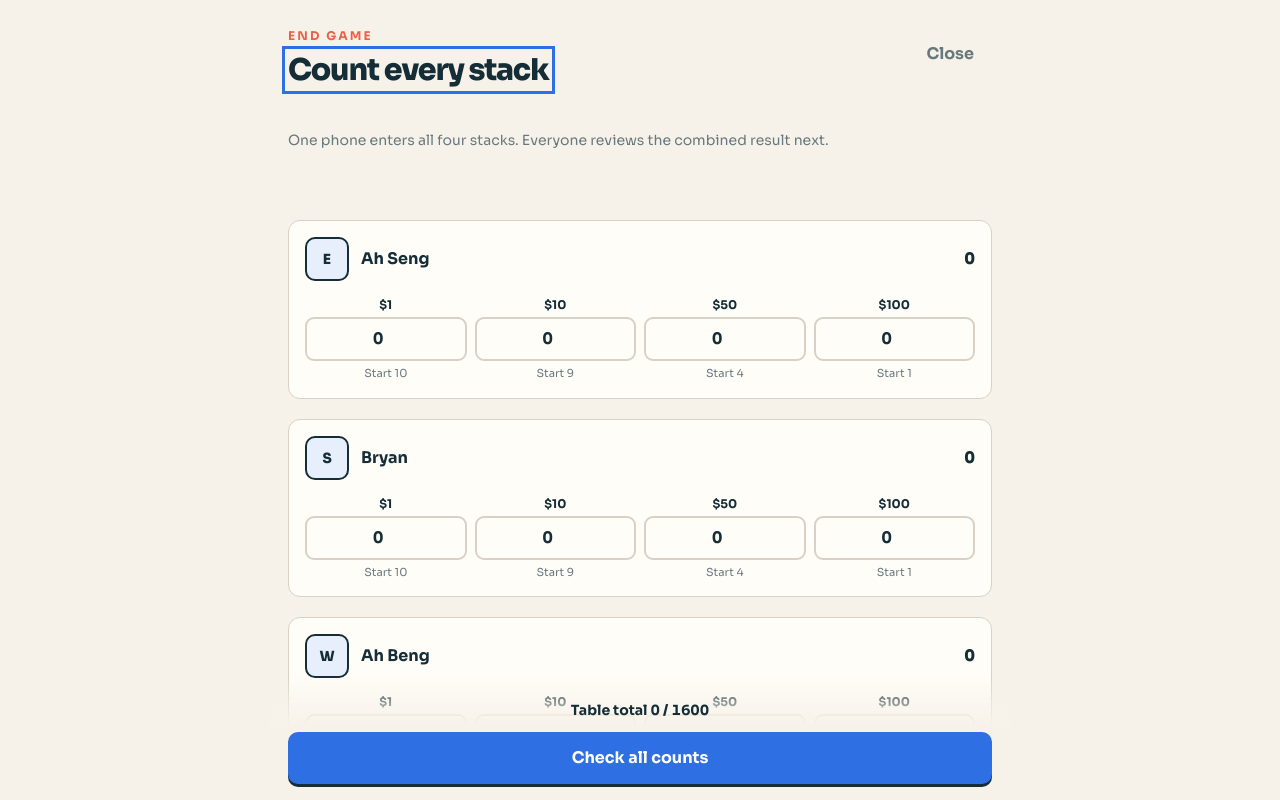
Scenario: ChipEndFlow count entry › shows balanced proposal success while realtime owns the phase change
Click the button "Check all counts". click: coordinates (640, 758)
box: [288,732,992,784]
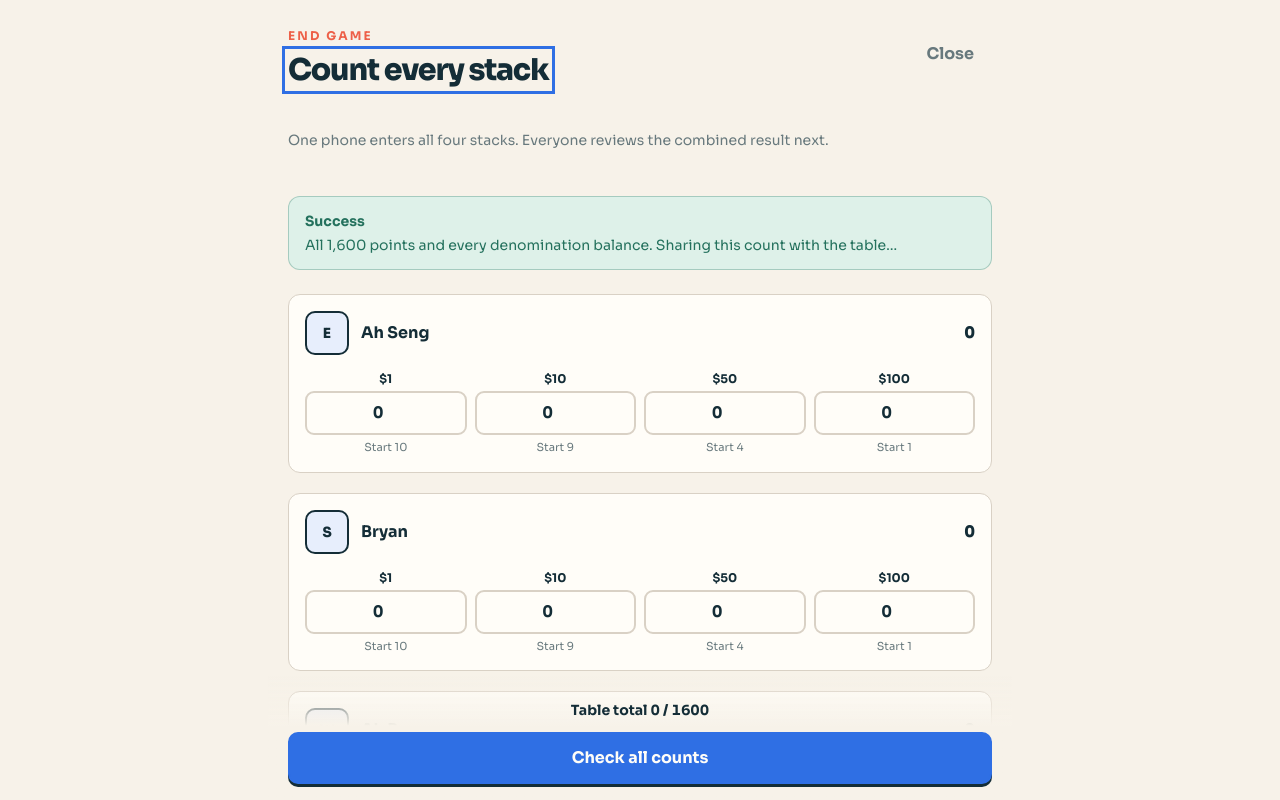
expect the text "All 1,600 points and every denomination balance. Sharing this count with the table…" is shown: met, box [305,236,897,254]
